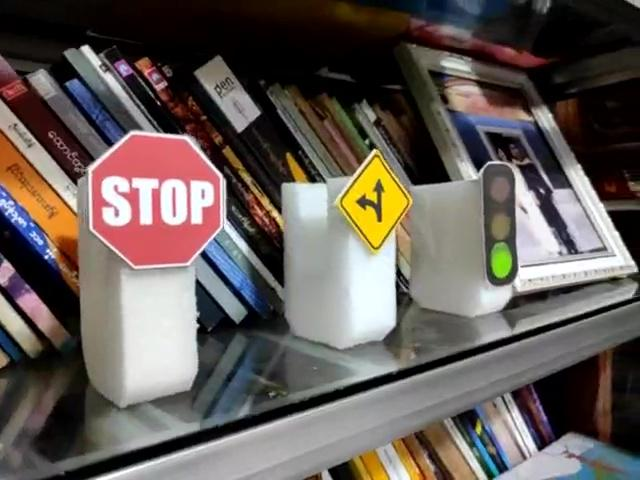Green Traffic Light: (481, 162, 519, 287)
Stop Sign: (86, 128, 227, 270)
Straight Or Left Sign: (334, 150, 413, 250)
